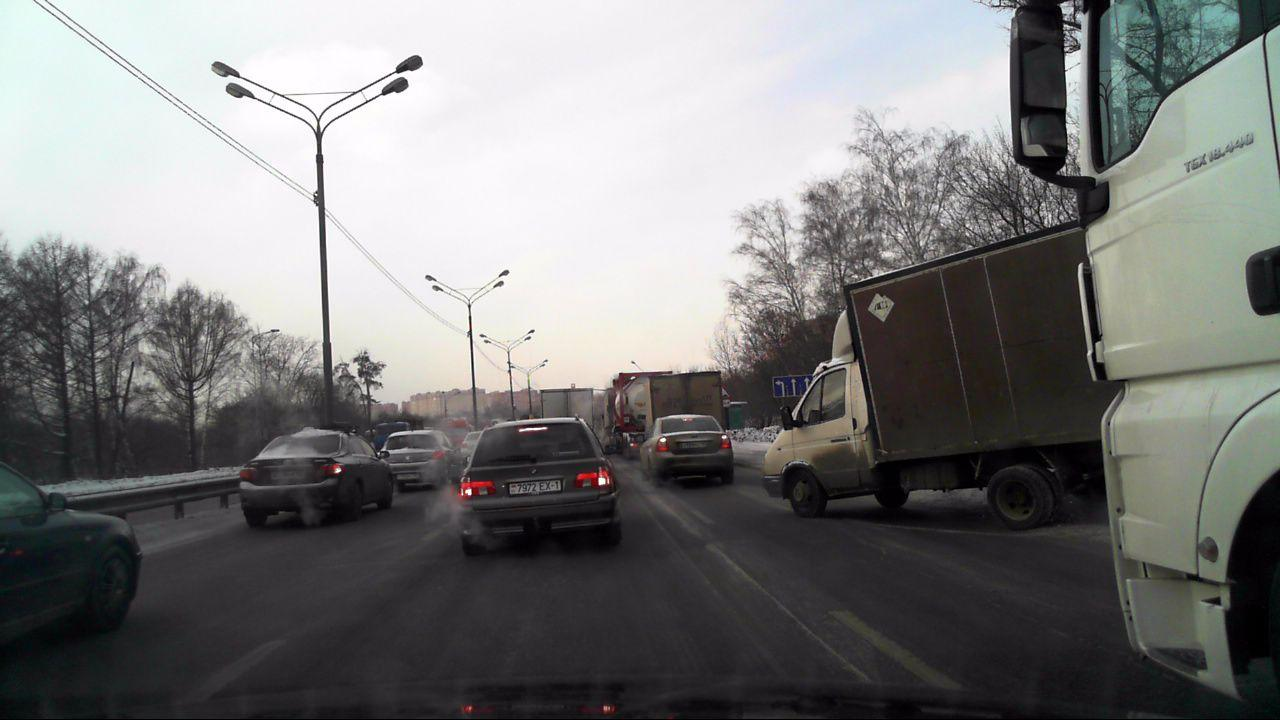5_15_1: (772, 375, 815, 397)
